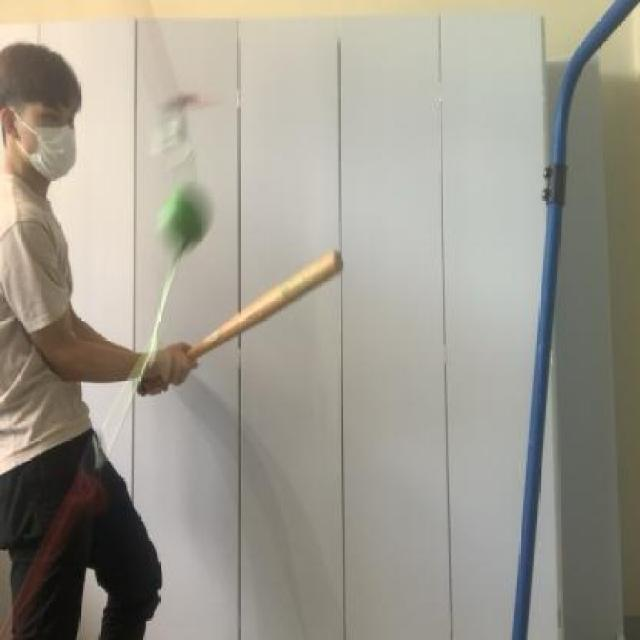baseball: (148, 176, 215, 253)
